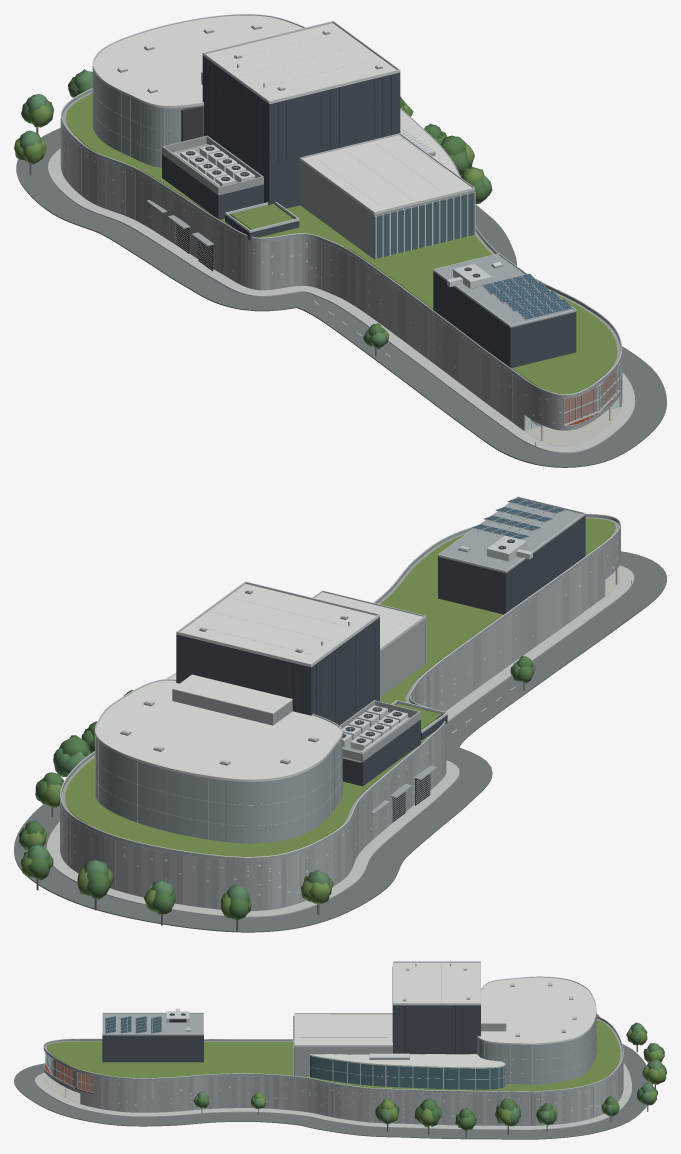
File: MatumotoCivicArtsCenter_04.glb
The picture shows the model from 3 angles, top to bottom: view 1: azimuth 30°, elevation 25°; view 2: azimuth 150°, elevation 25°; view 3: azimuth 270°, elevation 25°; orthographic projection. The views are drawn at different scales.
Visible parts, largest first — view 1: 個別_曲面_コンクリート_パネル, 外周_道路, 主ホール_舞台塔外壁, 連続_屋根_庭園, 主面_主ホール客席棟_屋根, 舞台_塔_屋根, 稽古場_ホール_屋根, 歩道_周囲_建物, 北側_屋上_別棟, 主ホール_客席棟外壁, 長手_稽古場_ホール, 稽古場_北側_ガラス張り_壁 (+15 smaller); view 2: 個別_曲面_コンクリート_パネル, 外周_道路, 主ホール_客席棟外壁, 主面_主ホール客席棟_屋根, 連続_屋根_庭園, 主ホール_舞台塔外壁, 舞台_塔_屋根, 歩道_周囲_建物, 北側_屋上_別棟, 別棟_陸屋根_屋根, 低層棟_外周_立上り壁, 長手_稽古場_ホール (+12 smaller); view 3: 個別_曲面_コンクリート_パネル, 連続_屋根_庭園, 外周_道路, 主面_主ホール客席棟_屋根, 主ホール_舞台塔外壁, ホワイエ_曲面ガラス壁, 主ホール_客席棟外壁, 舞台_塔_屋根, 歩道_周囲_建物, 稽古場_ホール_屋根, 北側_屋上_別棟, 低層棟_外周_立上り壁 (+13 smaller).
Part boxes in pixels (x1,y1,x2,y2): 個別_曲面_コンクリート_パネル: (60, 118, 520, 427); 外周_道路: (16, 128, 666, 467); 主ホール_舞台塔外壁: (202, 56, 400, 208); 連続_屋根_庭園: (66, 93, 617, 394); 主面_主ホール客席棟_屋根: (92, 15, 302, 108); 舞台_塔_屋根: (202, 23, 400, 104); 稽古場_ホール_屋根: (299, 135, 474, 214); 歩道_周囲_建物: (48, 148, 635, 453); 北側_屋上_別棟: (433, 272, 576, 368); 主ホール_客席棟外壁: (92, 67, 203, 167); 長手_稽古場_ホール: (299, 160, 474, 259); 稽古場_北側_ガラス張り_壁: (374, 193, 473, 258); 個別_曲面_コンクリート_パネル: (60, 549, 601, 910); 外周_道路: (14, 551, 666, 932); 主ホール_客席棟外壁: (95, 734, 342, 843); 主面_主ホール客席棟_屋根: (95, 680, 342, 781); 連続_屋根_庭園: (65, 518, 615, 856); 主ホール_舞台塔外壁: (176, 617, 379, 725); 舞台_塔_屋根: (176, 584, 379, 667); 歩道_周囲_建物: (46, 565, 634, 917); 北側_屋上_別棟: (438, 515, 585, 614); 別棟_陸屋根_屋根: (438, 498, 585, 573); 低層棟_外周_立上り壁: (60, 514, 620, 860); 長手_稽古場_ホール: (380, 618, 425, 697); 個別_曲面_コンクリート_パネル: (96, 1058, 623, 1125); 連続_屋根_庭園: (47, 1019, 620, 1091); 外周_道路: (14, 1044, 652, 1139); 主面_主ホール客席棟_屋根: (477, 977, 596, 1044); 主ホール_舞台塔外壁: (393, 1005, 480, 1054); ホワイエ_曲面ガラス壁: (310, 1056, 505, 1089); 主ホール_客席棟外壁: (477, 1012, 596, 1084); 舞台_塔_屋根: (393, 962, 480, 1005); 歩道_周囲_建物: (35, 1063, 632, 1130); 稽古場_ホール_屋根: (294, 1014, 392, 1046); 北側_屋上_別棟: (102, 1035, 203, 1062); 低層棟_外周_立上り壁: (43, 1016, 623, 1093).
Size of the model in its own units: 80.05 by 36.6 by 199.
